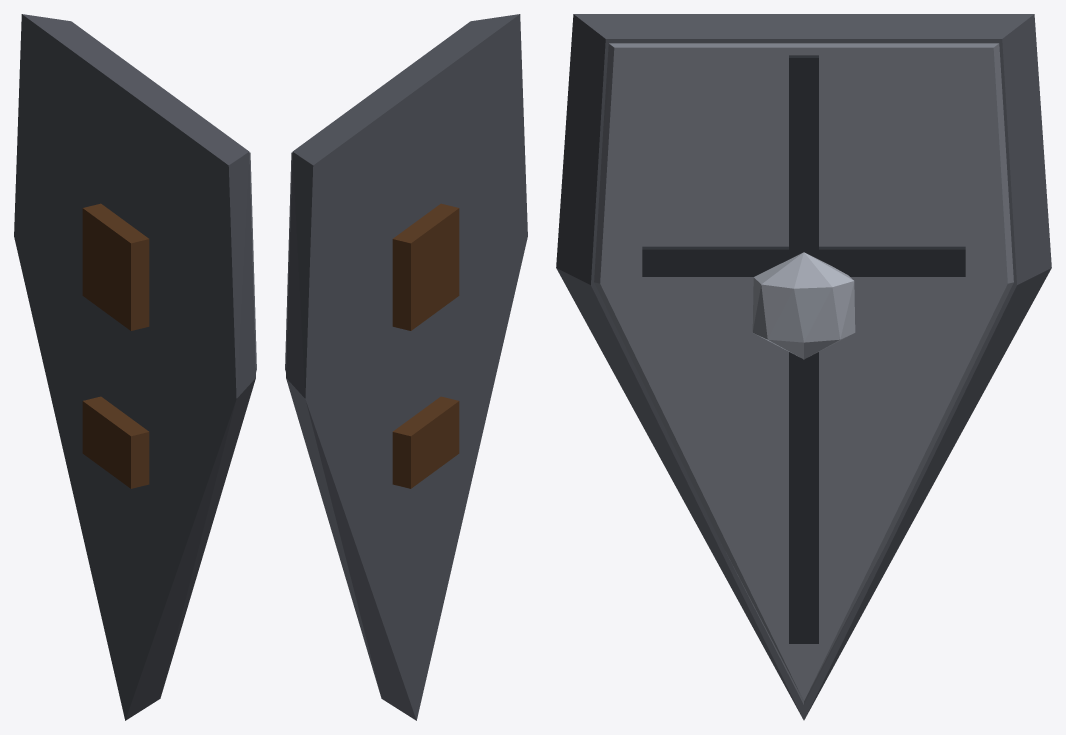
File: held_iron_shield.glb
The picture shows the model from 3 angles, left to right: view 1: azimuth 30°, elevation 25°; view 2: azimuth 150°, elevation 25°; view 3: azimuth 270°, elevation 25°; orthographic projection. The views are drawn at different scales.
Parts seen in each view (by area): view 1: held_iron_shield; view 2: held_iron_shield; view 3: held_iron_shield.
Boxes of the visible parts, left/top/right/bottom form: held_iron_shield: left=14, top=14, right=256, bottom=720; held_iron_shield: left=285, top=14, right=527, bottom=720; held_iron_shield: left=556, top=14, right=1051, bottom=720.
Bounding box in the file's own units: 0.1057 × 0.72 × 0.4601.
